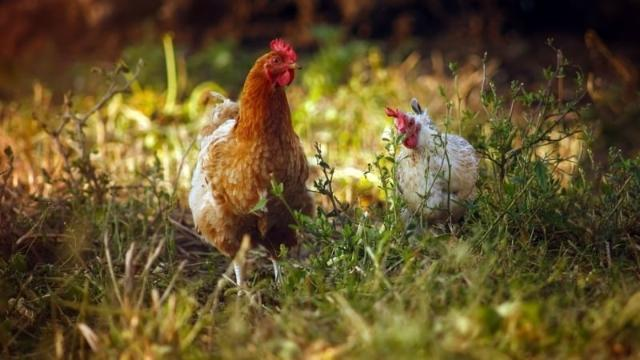Chicken: (191, 39, 310, 296), (385, 96, 478, 218)
